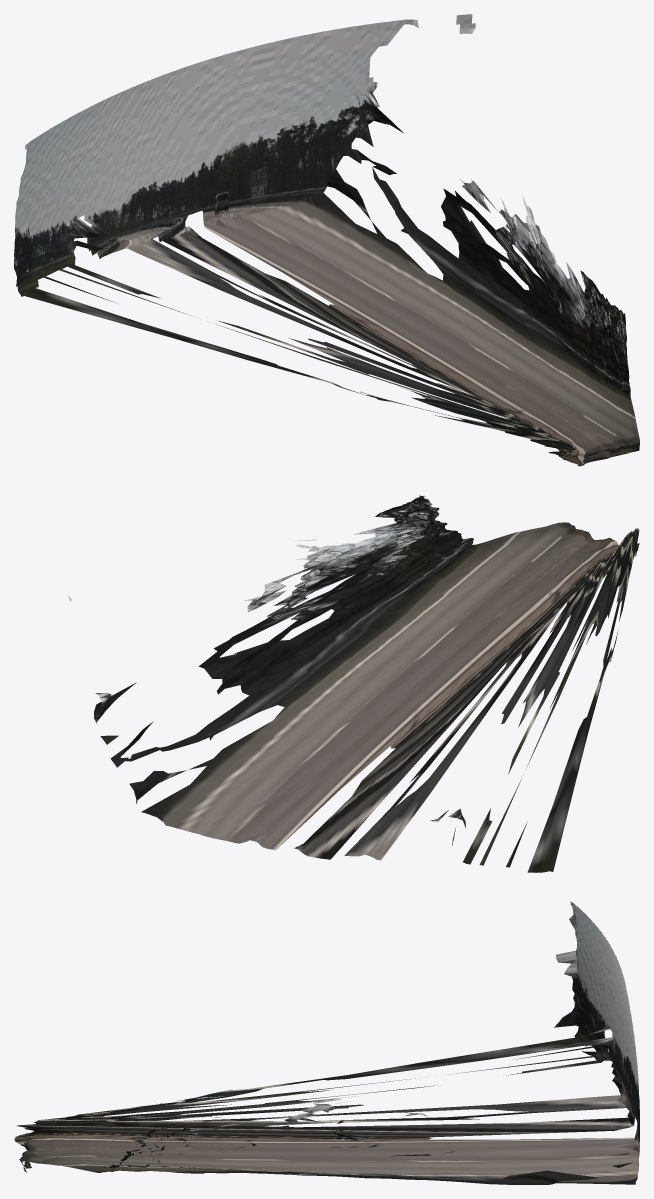
The picture shows the model from 3 angles, top to bottom: view 1: azimuth 30°, elevation 25°; view 2: azimuth 150°, elevation 25°; view 3: azimuth 270°, elevation 25°; orthographic projection. The views are drawn at different scales.
Parts seen in each view (by area): view 1: defaultobject; view 2: defaultobject; view 3: defaultobject.
Boxes of the visible parts, <box> form: defaultobject: <box>14,14,639,466</box>; defaultobject: <box>68,495,639,872</box>; defaultobject: <box>14,901,639,1184</box>.
Size of the model in its own units: 34.86 by 12.1 by 44.71.
Materials: 1 (1 with a texture image).
